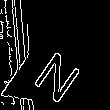N_NE: (29, 36, 88, 101)
